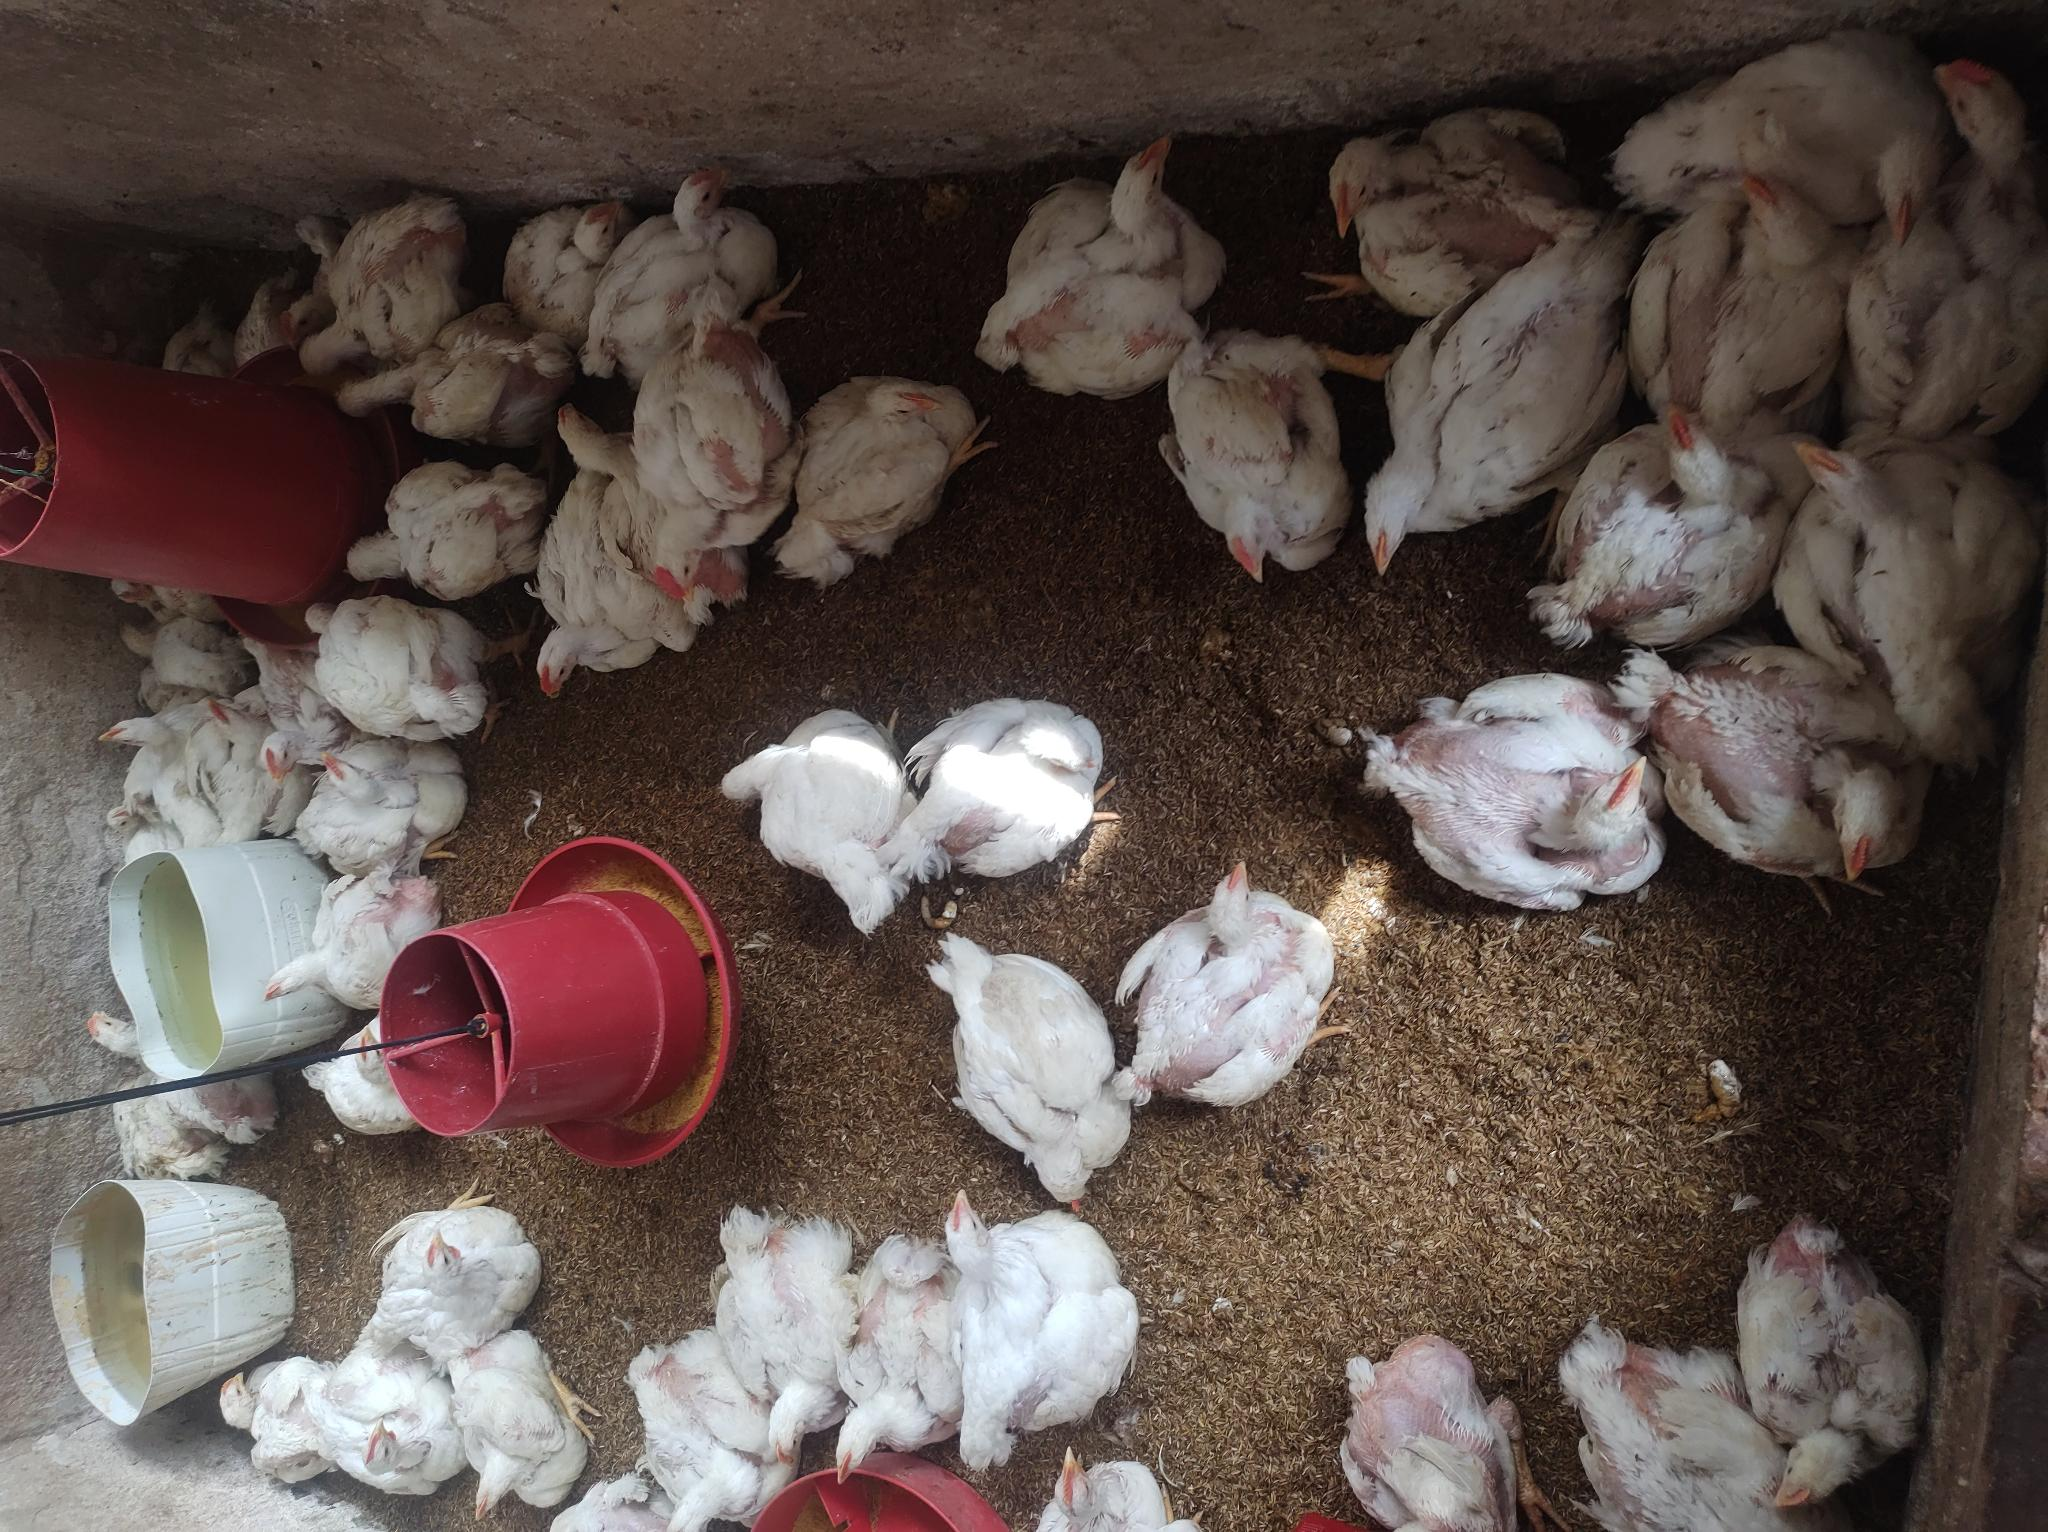Pollos: (1347, 254, 1662, 578), (1639, 636, 1945, 927), (1773, 430, 2045, 711), (1367, 673, 1668, 920), (1871, 40, 2048, 457), (1667, 0, 1961, 241), (988, 121, 1208, 393), (1742, 1220, 1948, 1508), (1630, 143, 1840, 423), (940, 1186, 1162, 1445), (1128, 850, 1347, 1112), (1544, 417, 1792, 645), (1171, 319, 1359, 599), (930, 933, 1125, 1189), (779, 365, 994, 595), (655, 296, 806, 615), (695, 706, 906, 933), (906, 679, 1128, 890), (1565, 1329, 1791, 1532), (1335, 93, 1556, 291), (1316, 1329, 1507, 1532), (302, 143, 473, 370), (713, 1213, 849, 1468), (66, 988, 232, 1192), (829, 1233, 967, 1477), (331, 312, 574, 451), (618, 161, 792, 352), (520, 480, 658, 711), (627, 1316, 785, 1519), (298, 726, 486, 887), (393, 1183, 547, 1361), (248, 871, 436, 1015), (322, 1337, 467, 1522), (319, 586, 486, 735), (470, 1310, 590, 1514), (335, 454, 537, 571), (220, 1340, 330, 1505), (510, 191, 634, 333), (282, 1025, 426, 1146), (1026, 1445, 1195, 1532), (63, 612, 251, 682), (541, 396, 634, 537), (256, 636, 335, 785), (150, 282, 233, 386), (103, 541, 232, 608), (100, 710, 214, 776), (541, 1482, 689, 1532), (103, 784, 183, 871), (241, 272, 312, 370), (195, 702, 265, 790), (285, 212, 376, 266)
